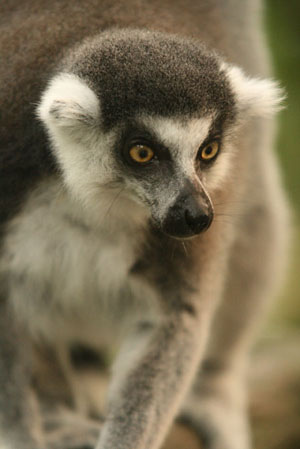cat: (0, 24, 293, 447)
